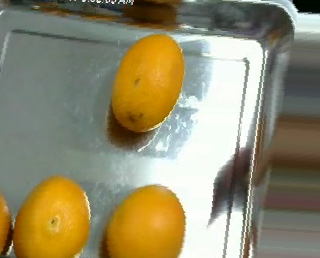Orange: (111, 33, 185, 131), (12, 173, 92, 257), (101, 183, 186, 258)
